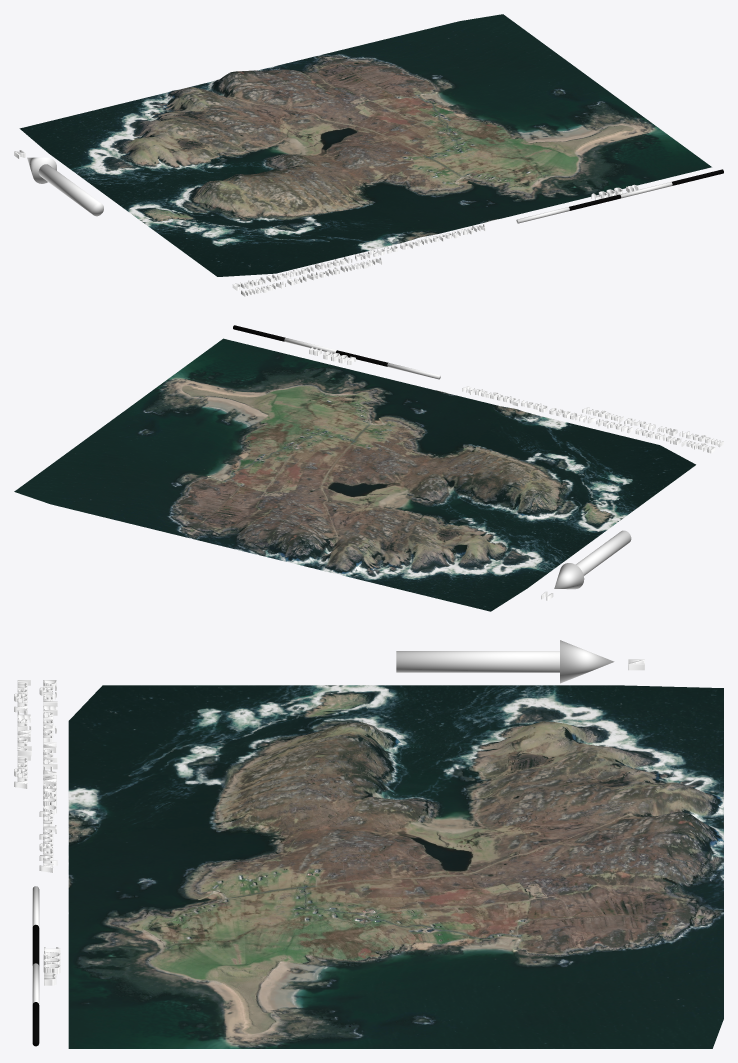
File: gola_island_co._donegal.glb
3 views of the same model, one above another, from view 1: azimuth 30°, elevation 25°; view 2: azimuth 150°, elevation 25°; view 3: azimuth 270°, elevation 25° (orthographic). The views are drawn at different scales.
Parts seen in each view (by area): view 1: TerrainNode_0, Adornments_1; view 2: TerrainNode_0, Adornments_1; view 3: TerrainNode_0, Adornments_1.
Boxes of the visible parts, x1,y1,x2,y2 form: TerrainNode_0: (19, 14, 711, 276); Adornments_1: (14, 150, 723, 296); TerrainNode_0: (14, 338, 695, 611); Adornments_1: (233, 325, 723, 600); TerrainNode_0: (68, 685, 723, 1048); Adornments_1: (14, 640, 644, 1046).
Bounding box in the file's own units: 4423 × 208 × 3395.
2 materials, 1 textured.
